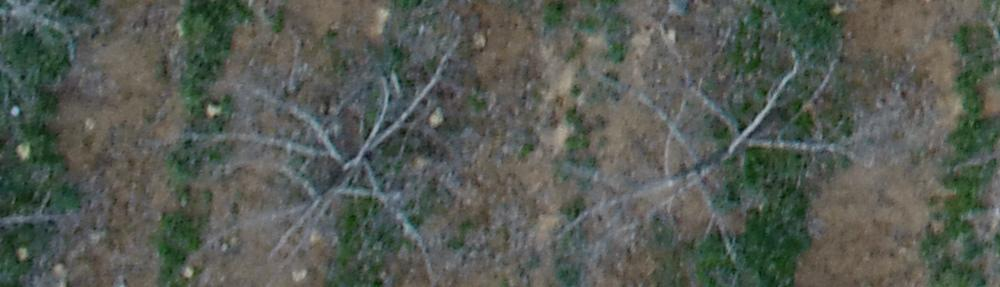apple: (548, 10, 891, 266), (193, 10, 491, 270), (11, 10, 115, 90)
